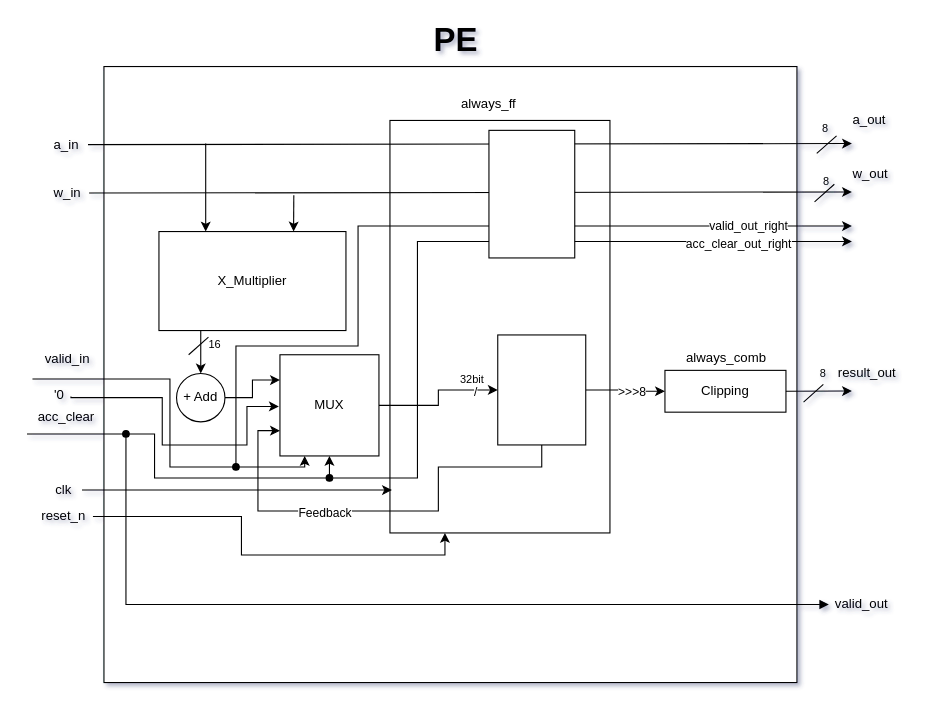
The diagram is 937 pixels wide and 708 high, and some of its shapes have lost their labels. Each missing label, with the centre of its shape:
acc_register: point 541,389
pipeline register: point 531,193
